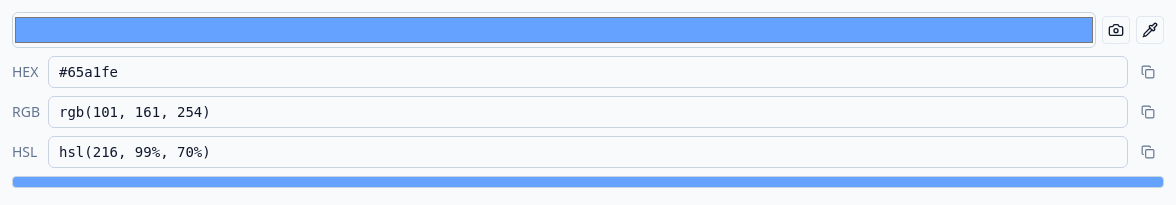
Test case: ColorConverterWidget › typing a new rgb value updates hex and hsl to match
Replace the text in the field labelled "RGB" with "rgb(0, 255, 0)" at point(588, 112), box [48,96,1128,128]
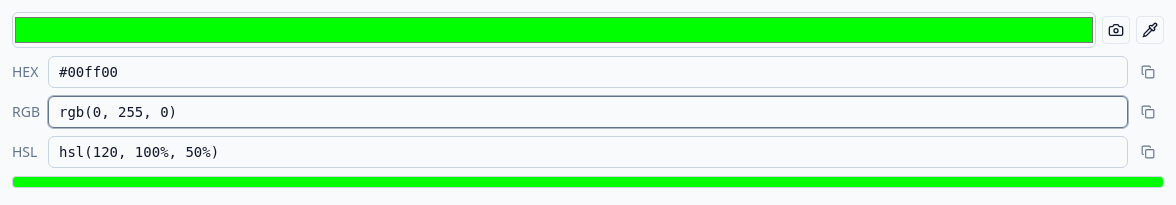
Result: the field labelled "HEX" holds "#00ff00" at [48,56,1128,88]
Result: the field labelled "HSL" holds "hsl(120, 100%, 50%)" at [48,136,1128,168]
